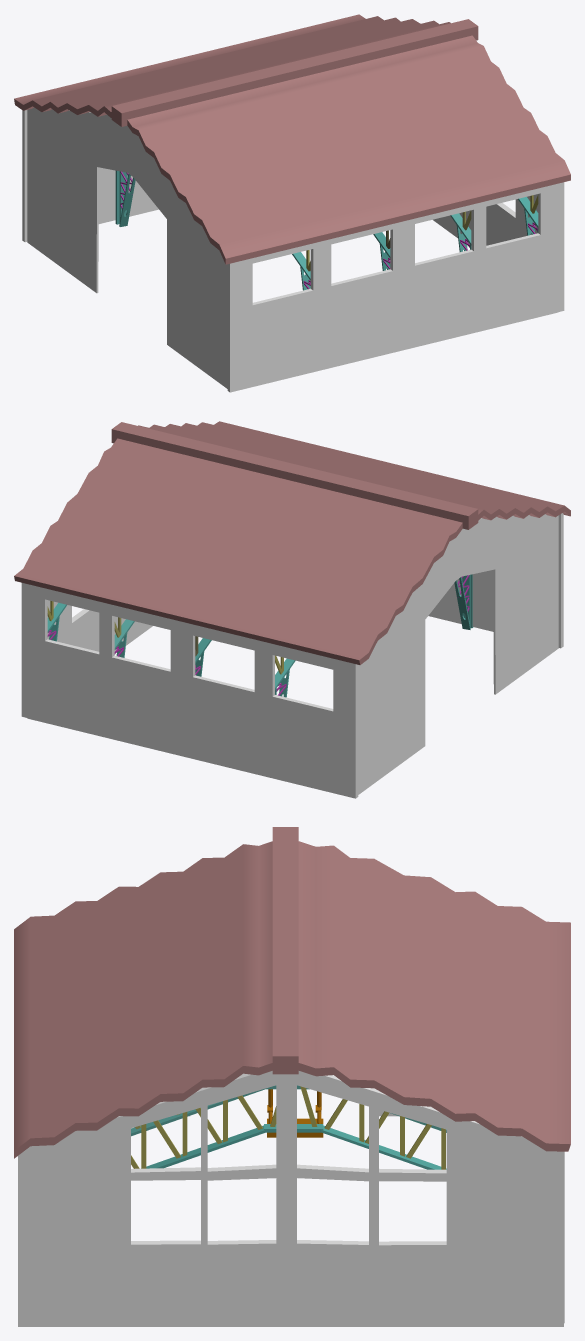
The model's file is MD_hangare_LOD0.fbx.
The picture shows the model from 3 angles, top to bottom: view 1: azimuth 30°, elevation 25°; view 2: azimuth 150°, elevation 25°; view 3: azimuth 270°, elevation 25°; orthographic projection. The views are drawn at different scales.
Visible parts, largest first — view 1: Toit, Murs, Soutiens_Bar_2; view 2: Toit, Murs, Soutiens_Bar_2; view 3: Toit, Murs, Bar_Soutien_Ligne_5, Soutiens_Bar_5, neon_3, Soutiens_Bar_4.
Part boxes in pixels (bbox=[...]): Toit: bbox=[14, 14, 570, 264]; Murs: bbox=[22, 107, 564, 392]; Soutiens_Bar_2: bbox=[115, 170, 310, 290]; Toit: bbox=[14, 421, 570, 664]; Murs: bbox=[21, 513, 563, 798]; Soutiens_Bar_2: bbox=[275, 574, 473, 697]; Toit: bbox=[14, 827, 570, 1158]; Murs: bbox=[18, 1071, 564, 1326]; Bar_Soutien_Ligne_5: bbox=[131, 1086, 445, 1169]; Soutiens_Bar_5: bbox=[146, 1124, 446, 1169]; neon_3: bbox=[267, 1089, 323, 1137]; Soutiens_Bar_4: bbox=[131, 1085, 446, 1136].
Size of the model in its own units: 62.43 by 35.52 by 64.14.
